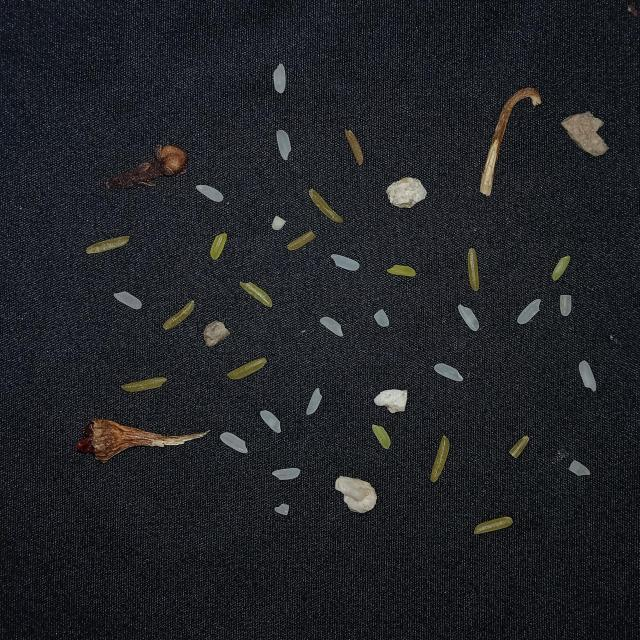Broken: (308, 190, 344, 222), (163, 300, 196, 330), (430, 435, 450, 483), (86, 235, 130, 255), (228, 358, 267, 380), (240, 282, 272, 308), (121, 377, 168, 392), (474, 516, 513, 534), (345, 130, 363, 166), (287, 230, 317, 251), (468, 248, 480, 291), (372, 424, 391, 450), (210, 233, 228, 260), (552, 255, 570, 281), (509, 436, 529, 458), (569, 460, 591, 476), (387, 265, 416, 277), (374, 309, 389, 327), (560, 294, 572, 316), (272, 216, 286, 230), (274, 504, 290, 516)
Full: (518, 298, 542, 324), (578, 360, 596, 392), (434, 363, 464, 382), (220, 433, 248, 453), (458, 305, 478, 331), (114, 292, 142, 310), (260, 410, 282, 432), (276, 130, 292, 160), (330, 254, 360, 270), (320, 317, 344, 337), (306, 387, 323, 415), (196, 185, 223, 202), (273, 64, 286, 94), (272, 468, 301, 480)
